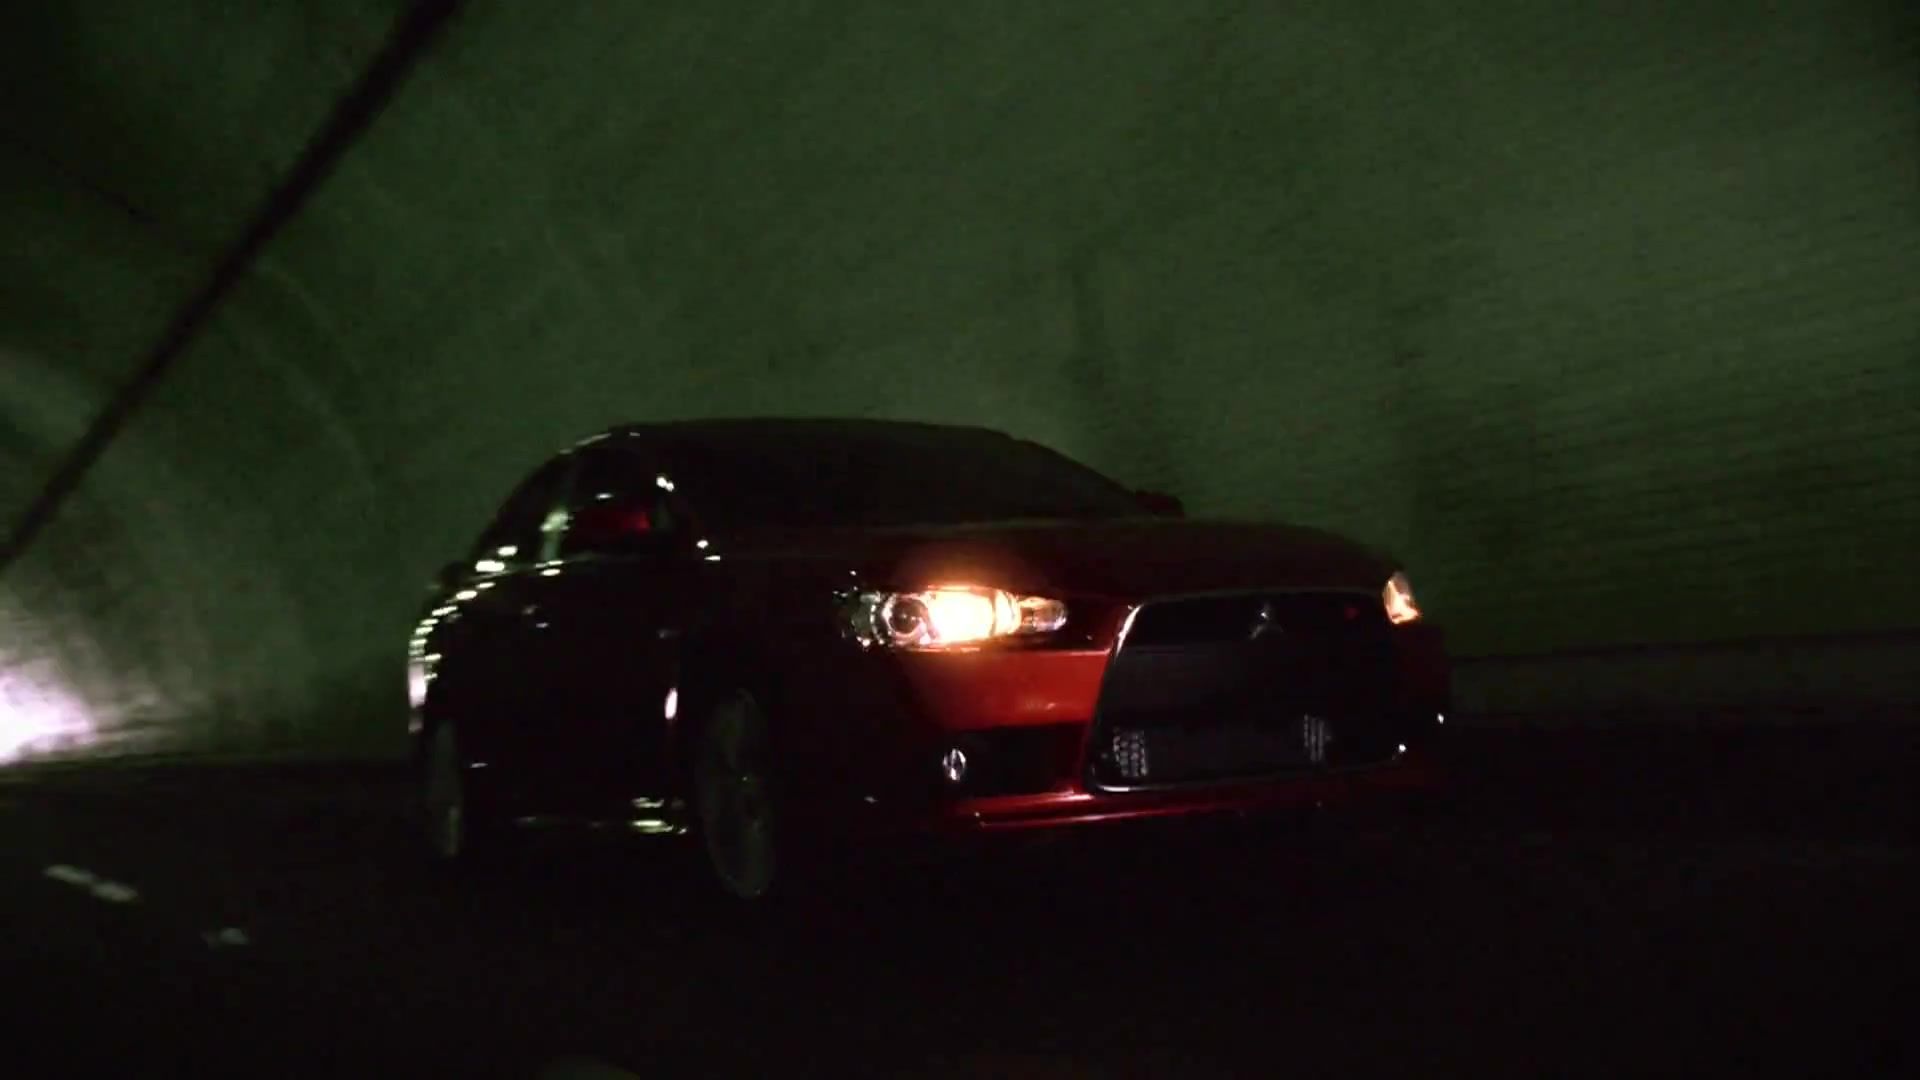car: (392, 422, 1466, 914)
